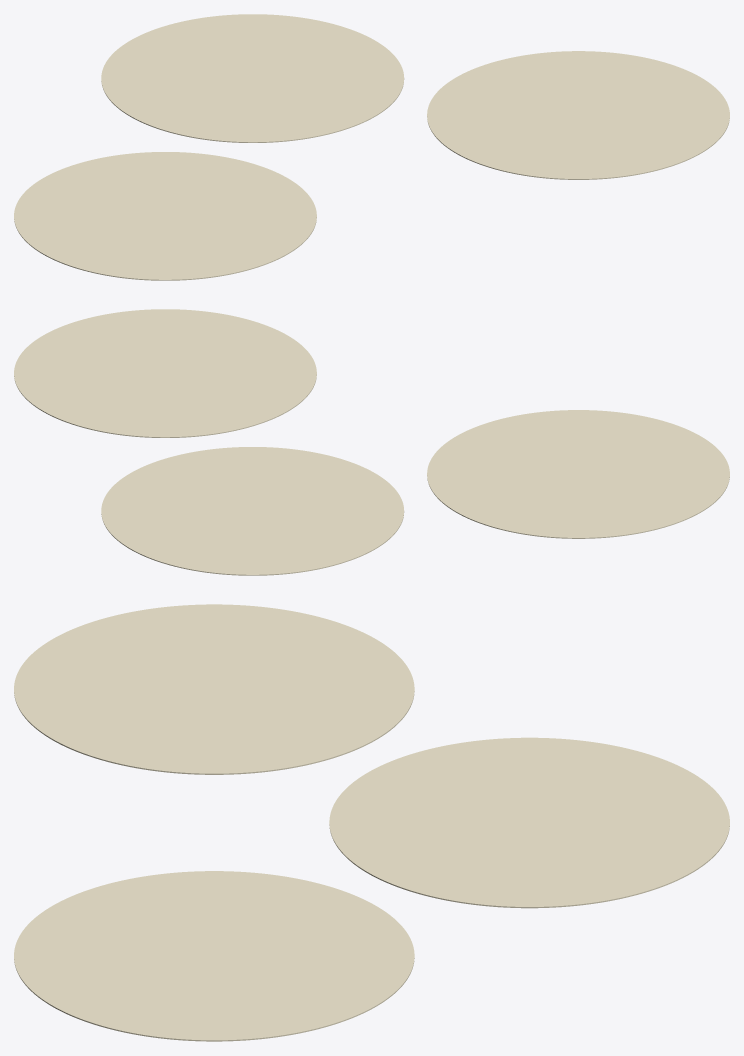
The model's file is p-pad.glb.
3 renders of one model, top to bottom at view 1: azimuth 30°, elevation 25°; view 2: azimuth 150°, elevation 25°; view 3: azimuth 270°, elevation 25°, orthographic. The views are drawn at different scales.
Parts seen in each view (by area): view 1: pads; view 2: pads; view 3: pads.
Part boxes in pixels (bbox=[...]): pads: bbox=[14, 14, 729, 280]; pads: bbox=[14, 309, 729, 575]; pads: bbox=[14, 604, 729, 1041].
Size of the model in its own units: 1.96 by 0.0025 by 1.36.
